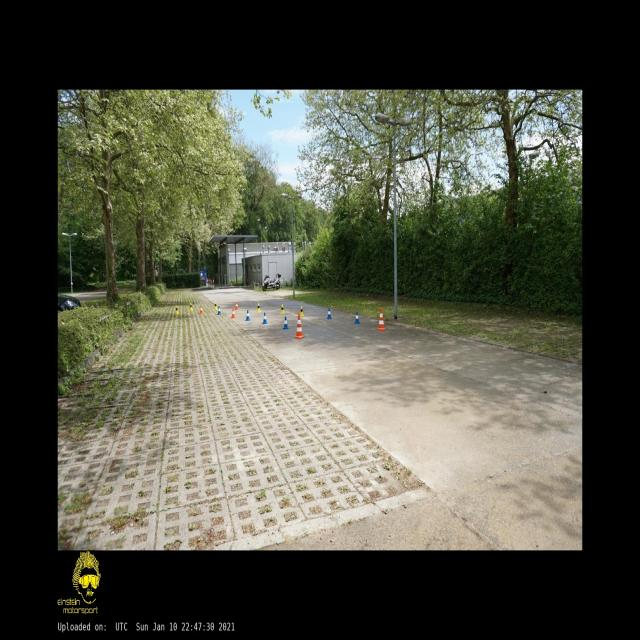blue_cone: (283, 316, 289, 329), (354, 312, 360, 323), (262, 312, 267, 324), (327, 308, 332, 318), (246, 310, 250, 320), (217, 306, 221, 315)
large_orange_cone: (295, 314, 304, 338), (377, 308, 385, 330)
orange_cone: (232, 309, 236, 318), (235, 302, 238, 310), (200, 305, 202, 314)
yellow_cone: (300, 306, 304, 316), (281, 304, 284, 314), (214, 302, 217, 310), (190, 303, 193, 310), (258, 303, 260, 312), (176, 305, 178, 314)
